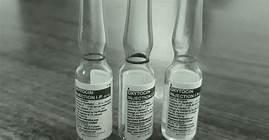Syringe: (72, 0, 114, 140), (162, 1, 204, 140), (117, 0, 157, 140)
